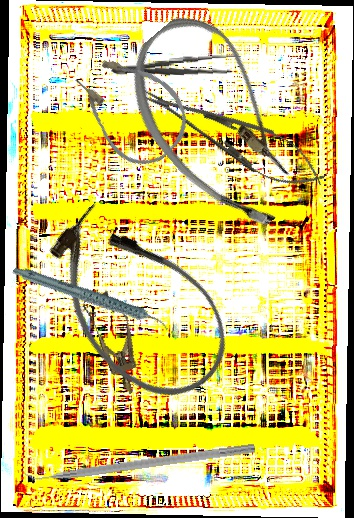Cannula: (102, 0, 336, 246), (21, 184, 253, 424), (59, 35, 203, 180)
Chopper: (19, 430, 256, 486)
Dressing Forceps: (110, 51, 243, 82)
Handpiece: (11, 237, 171, 362)
Needle Holder: (132, 71, 334, 202)
Speculum: (78, 286, 151, 400)
